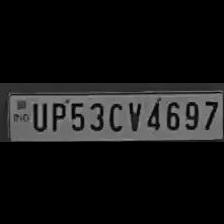3: (86, 98, 106, 130)
4: (144, 96, 162, 130)
5: (66, 97, 86, 130)
6: (162, 97, 180, 130)
7: (200, 97, 218, 130)
9: (180, 97, 200, 129)
C: (104, 98, 124, 132)
P: (48, 98, 66, 132)
U: (28, 98, 48, 132)
V: (124, 97, 142, 132)
